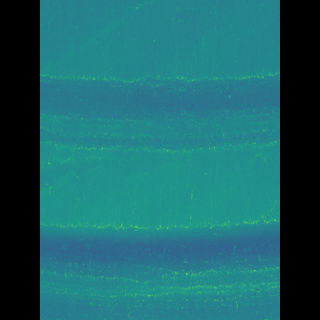Loch: (70, 216, 251, 320), (70, 69, 249, 153)
